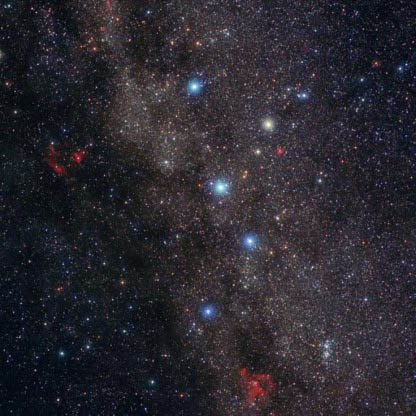Cassiopeia: (248, 112, 276, 157), (174, 75, 208, 111), (191, 292, 222, 326), (205, 169, 231, 205), (235, 228, 262, 256)
